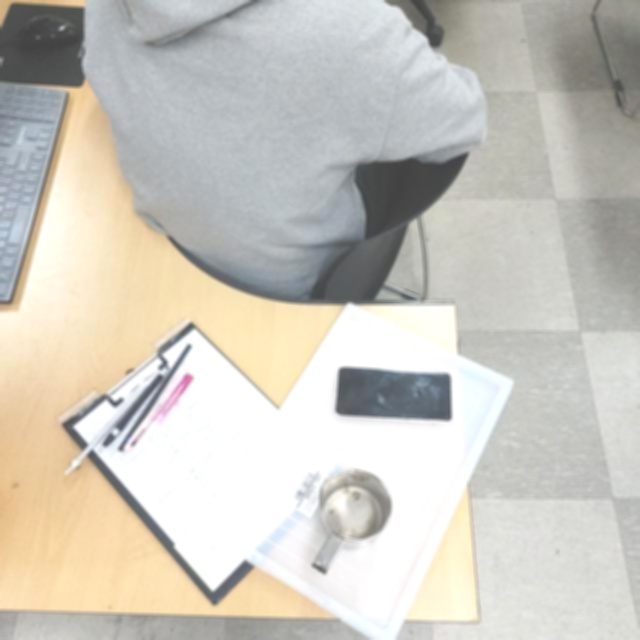cup: (312, 467, 394, 579)
phone: (332, 364, 453, 428)
